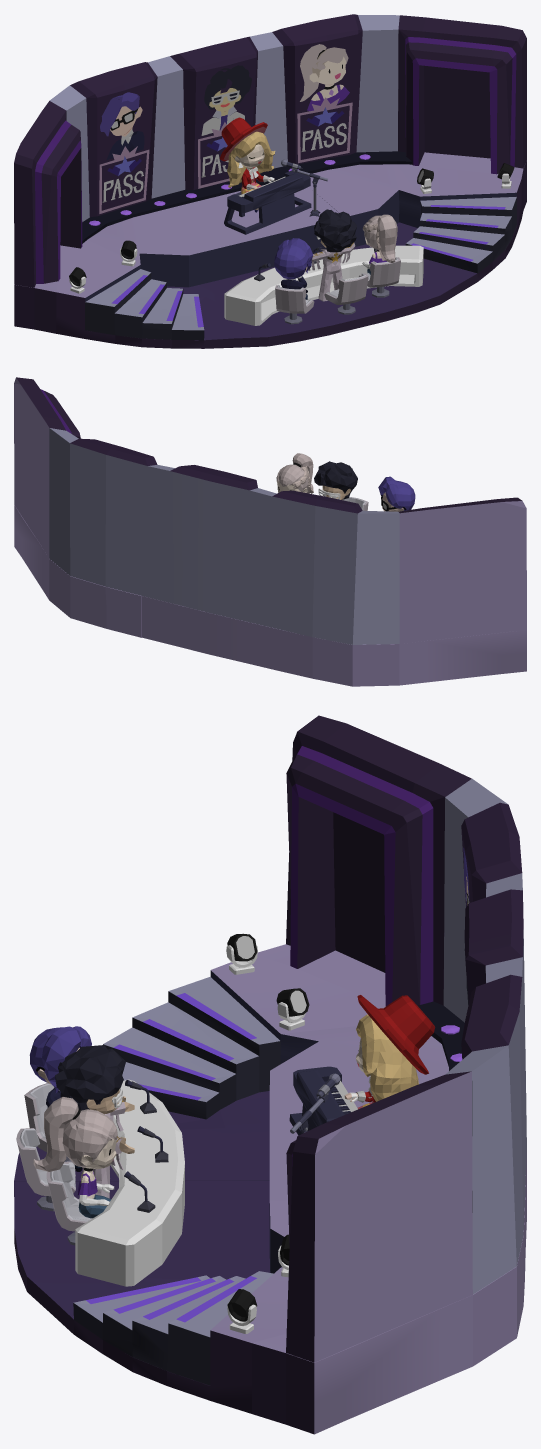
Rendered from 0052_audition.fbx.
3 views of the same model, one above another, from view 1: azimuth 30°, elevation 25°; view 2: azimuth 150°, elevation 25°; view 3: azimuth 270°, elevation 25° (orthographic). The views are drawn at different scales.
Parts seen in each view (by area): view 1: stage_screen, plate 1, stage_gate, plate2, stage_gate2, stage_stairs, stage_stairs2, desk, stage_bottom2, chair (×3), piano, singer2_head (+5 smaller); view 2: stage_screen, stage_gate2, plate 1, stage_gate, plate2, afroman_head, glassesman_Head, ponytailgirl_Head; view 3: plate2, stage_gate, stage_gate2, stage_screen, plate 1, stage_stairs2, desk, stage_stairs, chair (×3), afroman_head, singer2_hat, ponytailgirl_Head (+7 smaller).
Part boxes in pixels (bbox=[...]): stage_screen: bbox=[49, 14, 399, 221]; plate 1: bbox=[14, 185, 338, 348]; stage_gate: bbox=[398, 15, 526, 174]; plate2: bbox=[256, 152, 526, 334]; stage_gate2: bbox=[14, 101, 82, 287]; stage_stairs: bbox=[405, 197, 516, 273]; stage_stairs2: bbox=[85, 269, 204, 340]; desk: bbox=[224, 245, 423, 325]; stage_bottom2: bbox=[82, 151, 411, 243]; chair (×3): bbox=[275, 257, 400, 324]; piano: bbox=[224, 170, 311, 234]; singer2_head: bbox=[227, 131, 275, 187]; stage_screen: bbox=[49, 428, 399, 644]; stage_gate2: bbox=[398, 497, 526, 643]; plate 1: bbox=[142, 596, 526, 686]; stage_gate: bbox=[14, 377, 80, 558]; plate2: bbox=[14, 505, 141, 637]; afroman_head: bbox=[314, 461, 357, 499]; glassesman_Head: bbox=[378, 476, 415, 511]; ponytailgirl_Head: bbox=[276, 464, 308, 492]; plate2: bbox=[14, 1181, 524, 1434]; stage_gate: bbox=[286, 1071, 472, 1362]; stage_gate2: bbox=[286, 715, 471, 1006]; stage_screen: bbox=[443, 778, 526, 1294]; plate 1: bbox=[14, 944, 526, 1270]; stage_stairs2: bbox=[103, 977, 280, 1119]; desk: bbox=[75, 1079, 184, 1286]; stage_stairs: bbox=[73, 1271, 273, 1385]; chair (×3): bbox=[16, 1083, 92, 1245]; afroman_head: bbox=[55, 1045, 125, 1114]; singer2_hat: bbox=[357, 995, 435, 1074]; ponytailgirl_Head: bbox=[62, 1109, 117, 1169].
Bounding box in the file's own units: 18.95 × 6.24 × 9.59.
